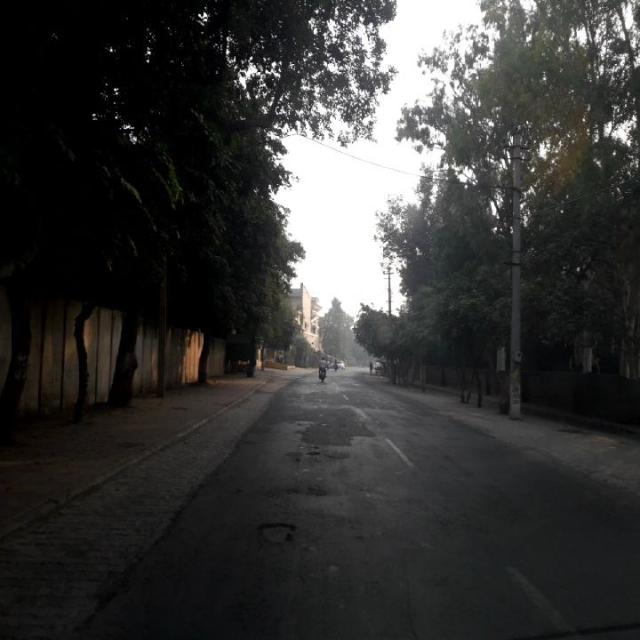D40: (252, 513, 302, 550)
